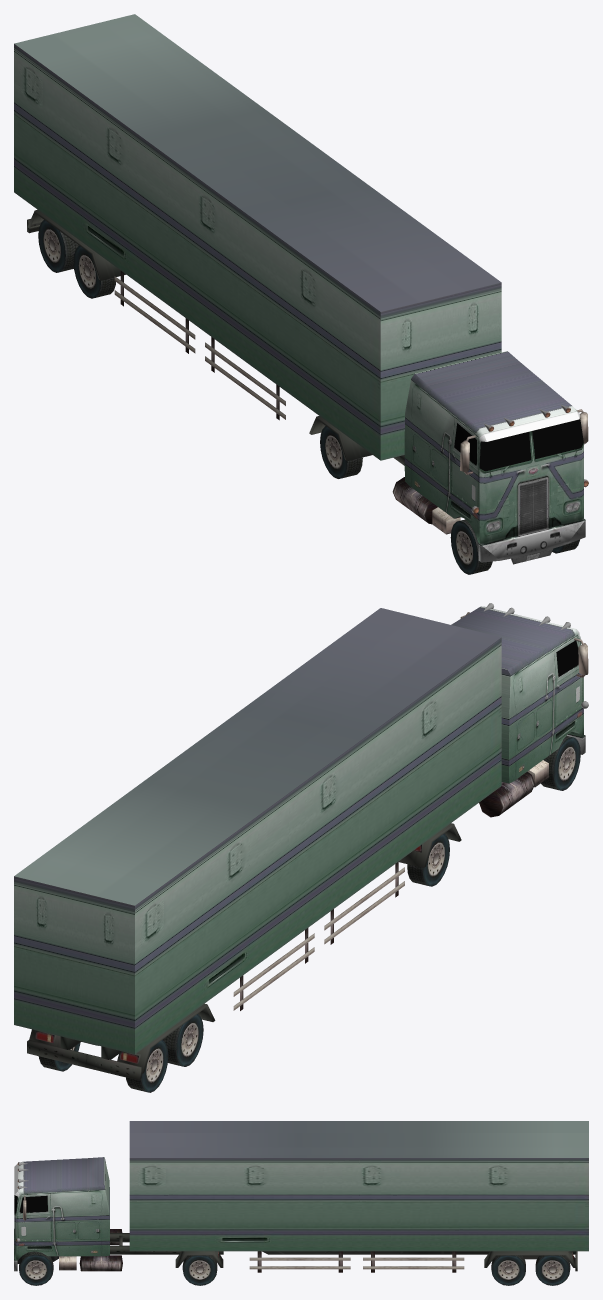
The model's file is peterbilt.glb.
The picture shows the model from 3 angles, top to bottom: view 1: azimuth 30°, elevation 25°; view 2: azimuth 150°, elevation 25°; view 3: azimuth 270°, elevation 25°; orthographic projection. The views are drawn at different scales.
Visible parts, largest first — view 1: Scene_Semi_0, Scene.001_Semi_0; view 2: Scene_Semi_0; view 3: Scene_Semi_0, Scene.001_Semi_0.
Part boxes in pixels (x1,y1,x2,y2): Scene_Semi_0: (14,14,588,574); Scene.001_Semi_0: (454,418,583,471); Scene_Semi_0: (14,603,588,1092); Scene_Semi_0: (14,1121,588,1285); Scene.001_Semi_0: (14,1195,47,1213).
Bounding box in the file's own units: 2.23 × 3.48 × 13.9.
1 material, 1 textured.
